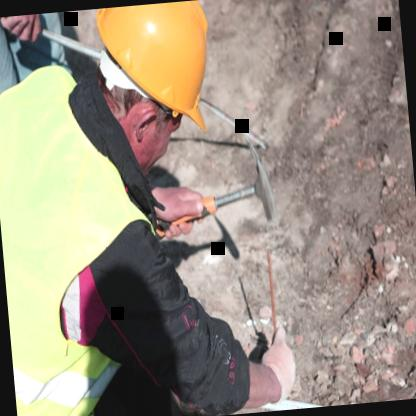helmet: (65, 0, 252, 191)
